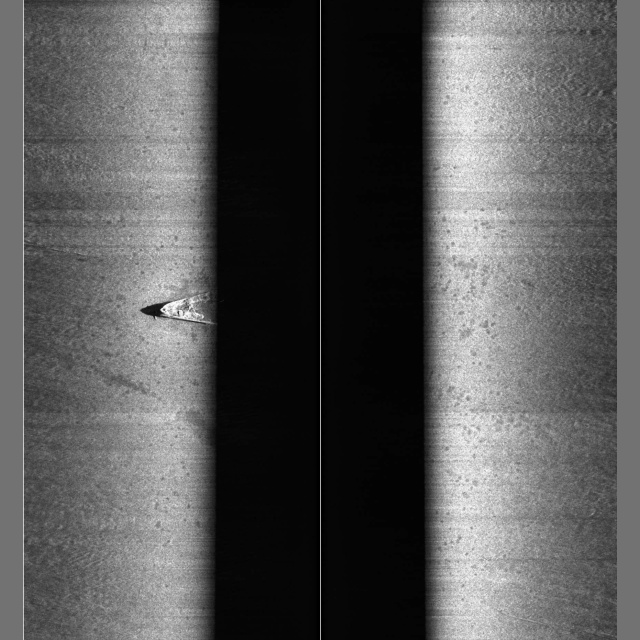Shipwreck: (155, 292, 218, 327)
